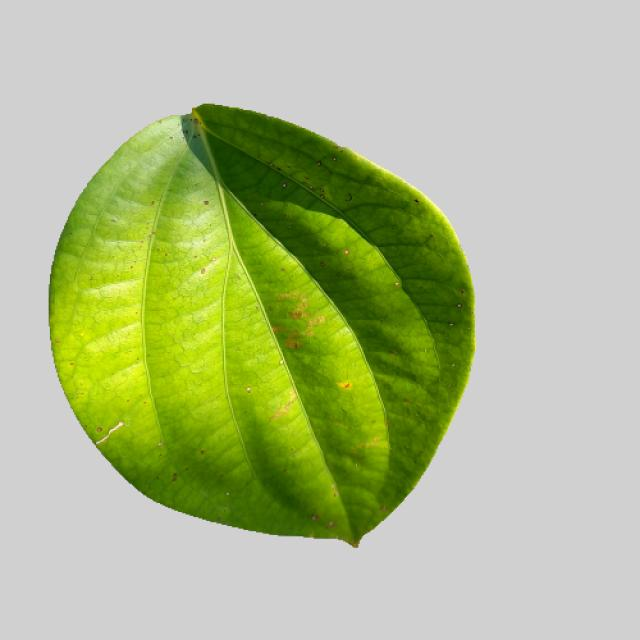healthy: (41, 94, 484, 568)
